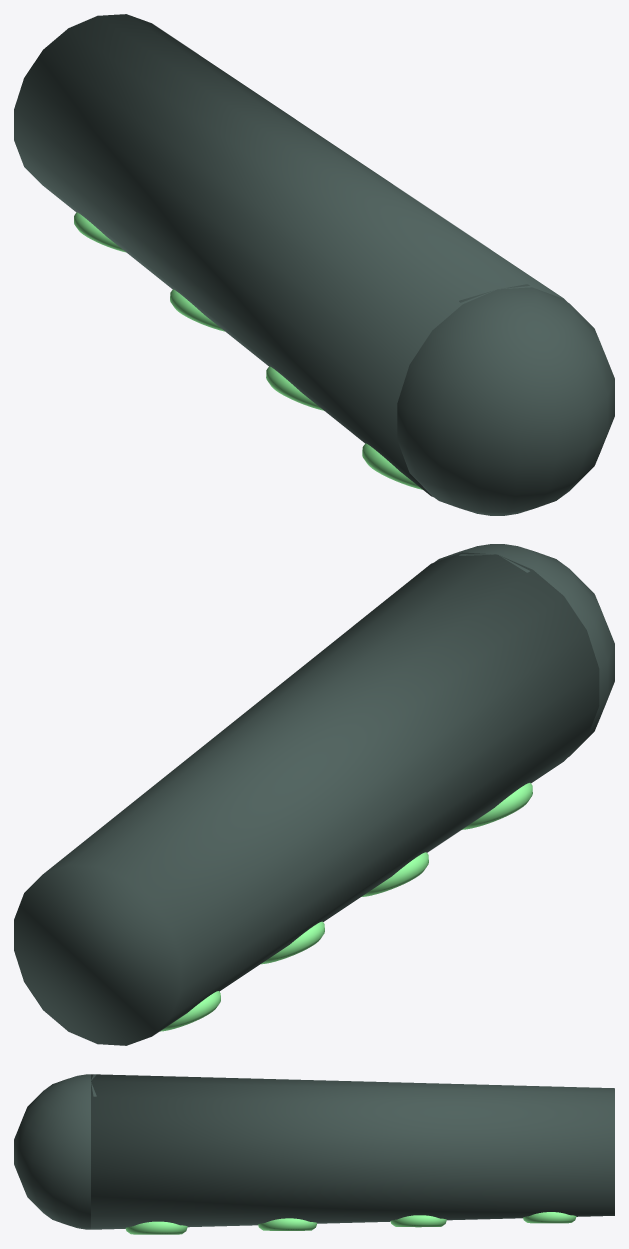
Rendered from seg5.glb.
3 renders of one model, top to bottom at view 1: azimuth 30°, elevation 25°; view 2: azimuth 150°, elevation 25°; view 3: azimuth 270°, elevation 25°, orthographic. The views are drawn at different scales.
Visible parts, largest first — view 1: tentacle, sucker; view 2: tentacle, sucker; view 3: tentacle, sucker.
Part boxes in pixels (left/top/right/bottom): tentacle: left=14, top=14, right=614, bottom=515; sucker: left=74, top=212, right=422, bottom=489; tentacle: left=14, top=544, right=614, bottom=1045; sucker: left=160, top=783, right=532, bottom=1031; tentacle: left=14, top=1074, right=614, bottom=1229; sucker: left=125, top=1212, right=576, bottom=1234.
Size of the model in its own units: 0.2494 by 0.2654 by 0.9747.
